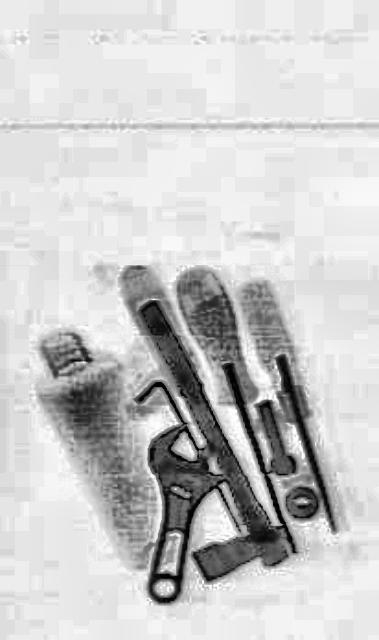Wrench: (118, 406, 232, 620)
